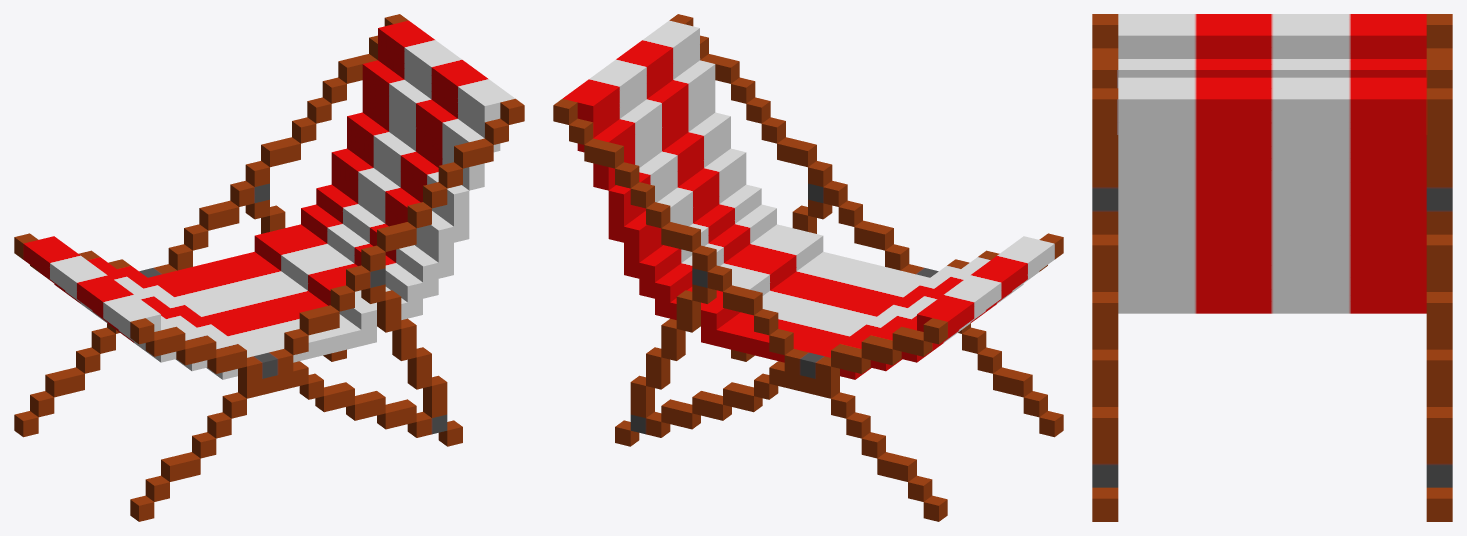
The model's file is beach_chair_7.fbx.
3 renders of one model, left to right at view 1: azimuth 30°, elevation 25°; view 2: azimuth 150°, elevation 25°; view 3: azimuth 270°, elevation 25°, orthographic. The views are drawn at different scales.
Parts seen in each view (by area): view 1: beach_chair_7; view 2: beach_chair_7; view 3: beach_chair_7.
Part boxes in pixels (bbox=[...]): beach_chair_7: bbox=[14, 14, 524, 521]; beach_chair_7: bbox=[553, 14, 1063, 521]; beach_chair_7: bbox=[1092, 14, 1452, 521].
Bounding box in the file's own units: 25 × 20 × 14.
